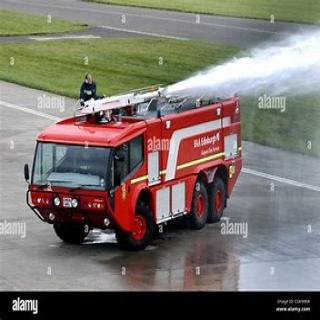Fire_truck: (22, 83, 242, 250)
